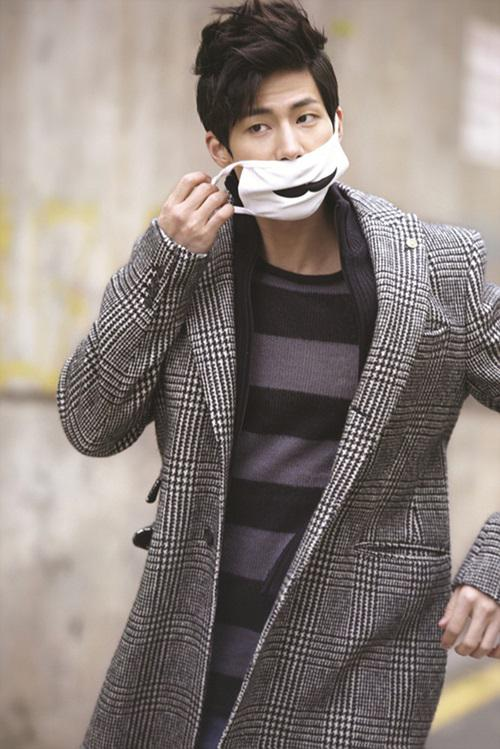WRONG: (219, 91, 348, 220)
